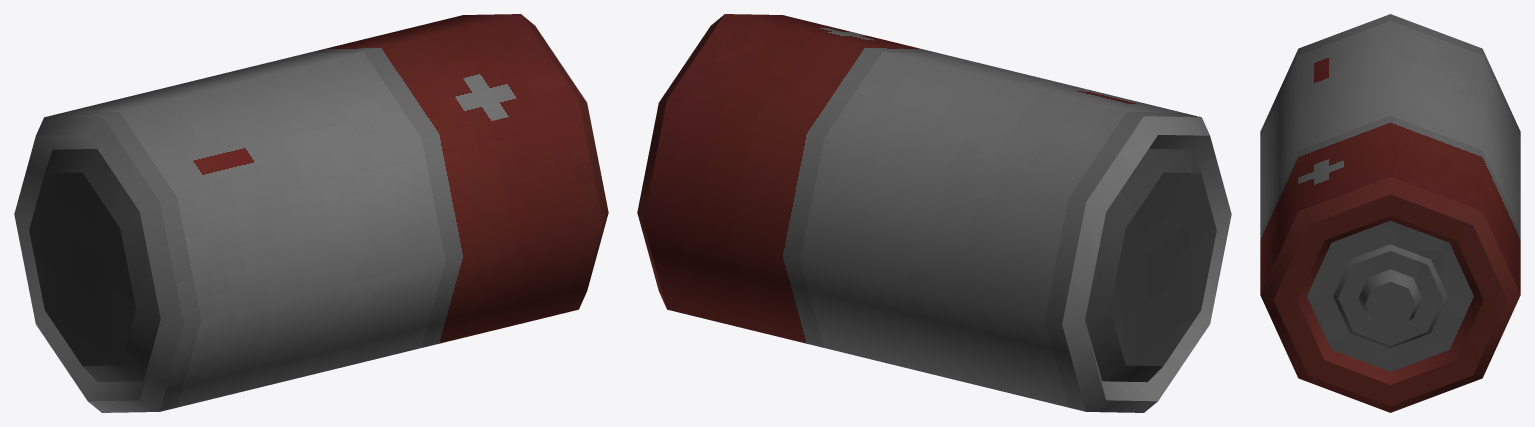
File: battery_mp_2_1.glb
3 renders of one model, left to right at view 1: azimuth 30°, elevation 25°; view 2: azimuth 150°, elevation 25°; view 3: azimuth 270°, elevation 25°, orthographic. The views are drawn at different scales.
Parts seen in each view (by area): view 1: battery_mp_2_1; view 2: battery_mp_2_1; view 3: battery_mp_2_1.
Boxes of the visible parts, x1,y1,x2,y2 form: battery_mp_2_1: (14,14,608,412); battery_mp_2_1: (637,14,1231,412); battery_mp_2_1: (1260,14,1520,412).
Bounding box in the file's own units: 0.0883 × 0.054 × 0.054.
1 material, 1 textured.
